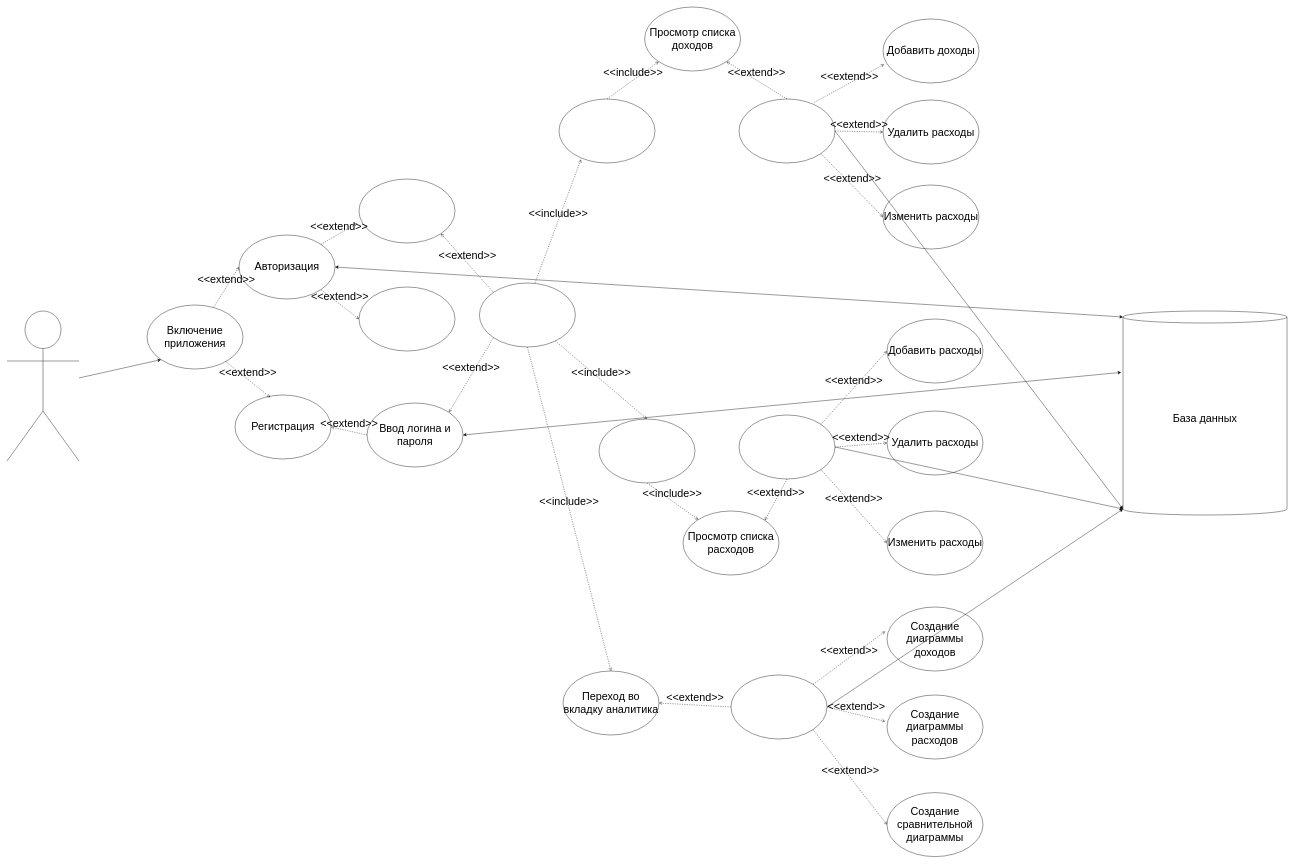
The diagram is 1294 pixels wide and 864 high, and some of its shapes have lost their labels. The shapes that lost their labels are listed below. From the top down, each one's centre as x and y in pixels, then its label:
the point at 607,131: Переход во вкладку доходы
the point at 787,131: Редактировать доходы
the point at 407,211: Ввод правильных данных
the point at 407,319: Ввод неправильных данных
the point at 527,315: Переход в профиль пользователя
the point at 43,386: User
the point at 647,451: Переход во вкладку расходы
the point at 787,447: Редактировать расходы
the point at 779,707: Выбор диаграммы
